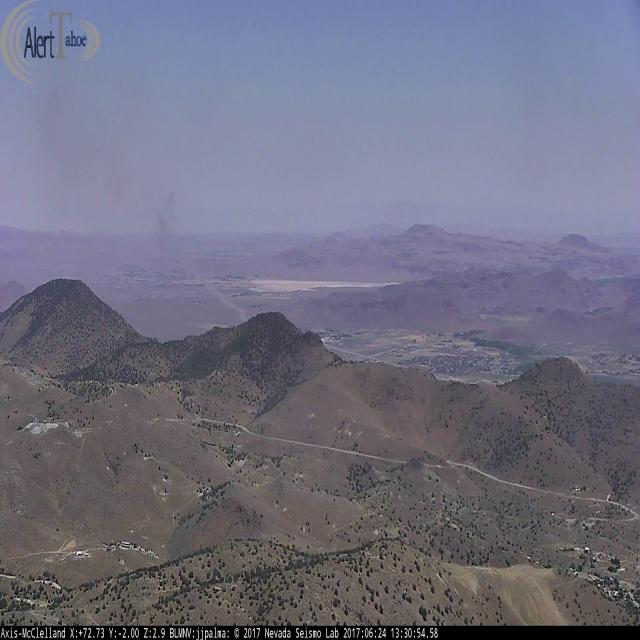smoke: (43, 69, 186, 291)
